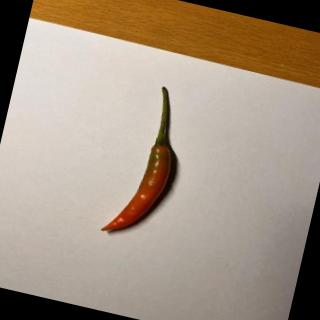Cabai Merah: (101, 80, 189, 243)
